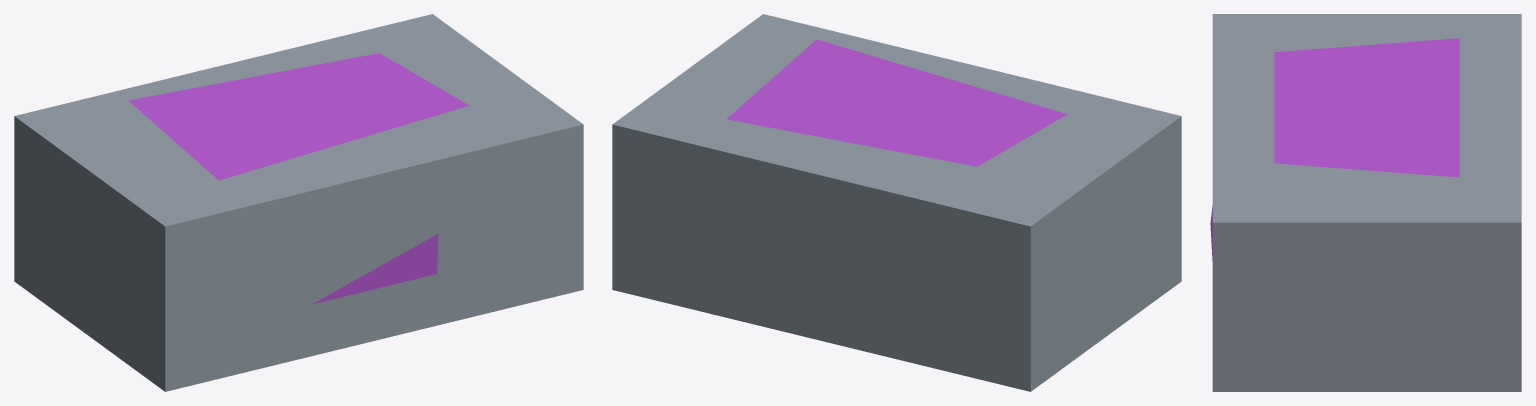
The model's file is CH_EraEngine_LOD1.glb.
3 renders of one model, left to right at view 1: azimuth 30°, elevation 25°; view 2: azimuth 150°, elevation 25°; view 3: azimuth 270°, elevation 25°, orthographic. The views are drawn at different scales.
Parts seen in each view (by area): view 1: EntranceGate; view 2: EntranceGate; view 3: EntranceGate.
Boxes of the visible parts, x1,y1,x2,y2 form: EntranceGate: (14, 14, 583, 391); EntranceGate: (612, 14, 1181, 391); EntranceGate: (1210, 14, 1521, 391).
Bounding box in the file's own units: 720 × 300 × 453.
